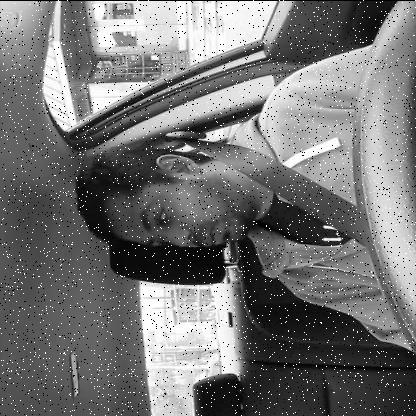seatbelt: (64, 116, 388, 284)
